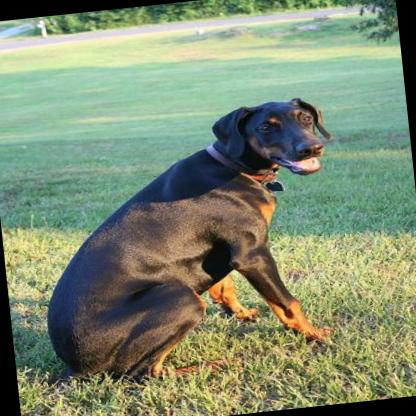Doberman: (20, 90, 359, 396)
